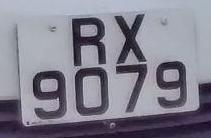0: (67, 63, 116, 120)
7: (111, 59, 156, 118)
9: (25, 62, 72, 125), (149, 56, 195, 114)
R: (62, 10, 115, 71)
X: (110, 8, 155, 67)
